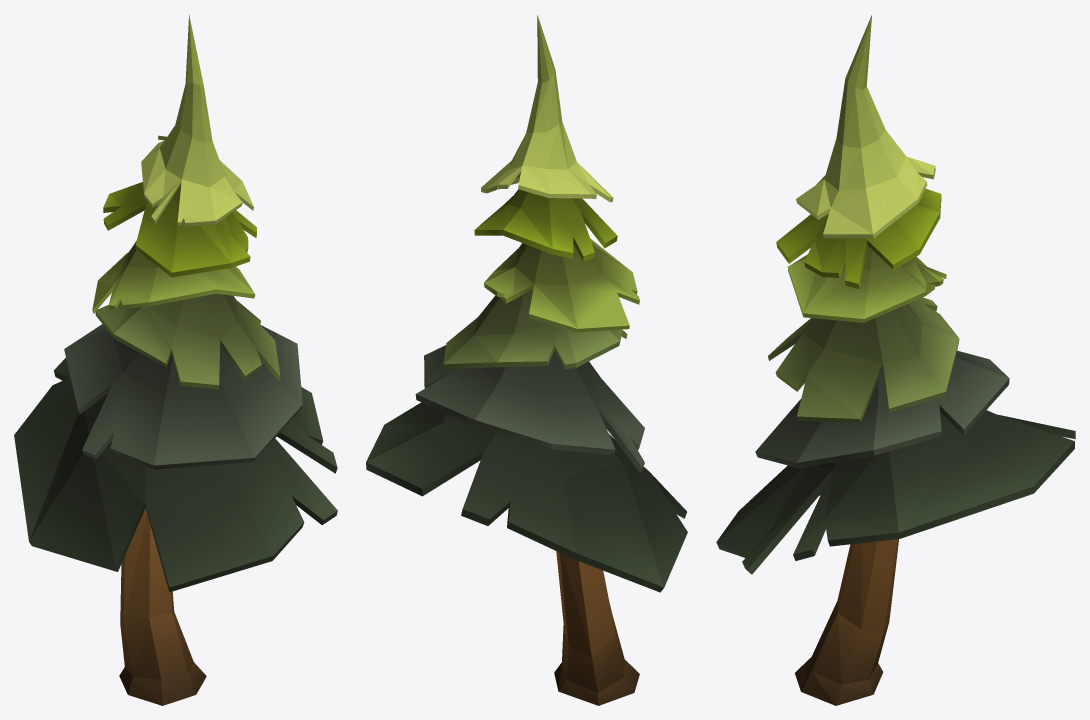
File: TreePine2.glb
3 views of the same model, side by side, from view 1: azimuth 30°, elevation 25°; view 2: azimuth 150°, elevation 25°; view 3: azimuth 270°, elevation 25° (orthographic). The views are drawn at different scales.
Parts seen in each view (by area): view 1: TreePine-02; view 2: TreePine-02; view 3: TreePine-02.
Boxes of the visible parts, x1,y1,x2,y2 form: TreePine-02: [14, 14, 337, 705]; TreePine-02: [366, 15, 687, 705]; TreePine-02: [716, 15, 1075, 705].
Size of the model in its own units: 5.61 by 12.57 by 5.92.
1 material, 1 textured.
